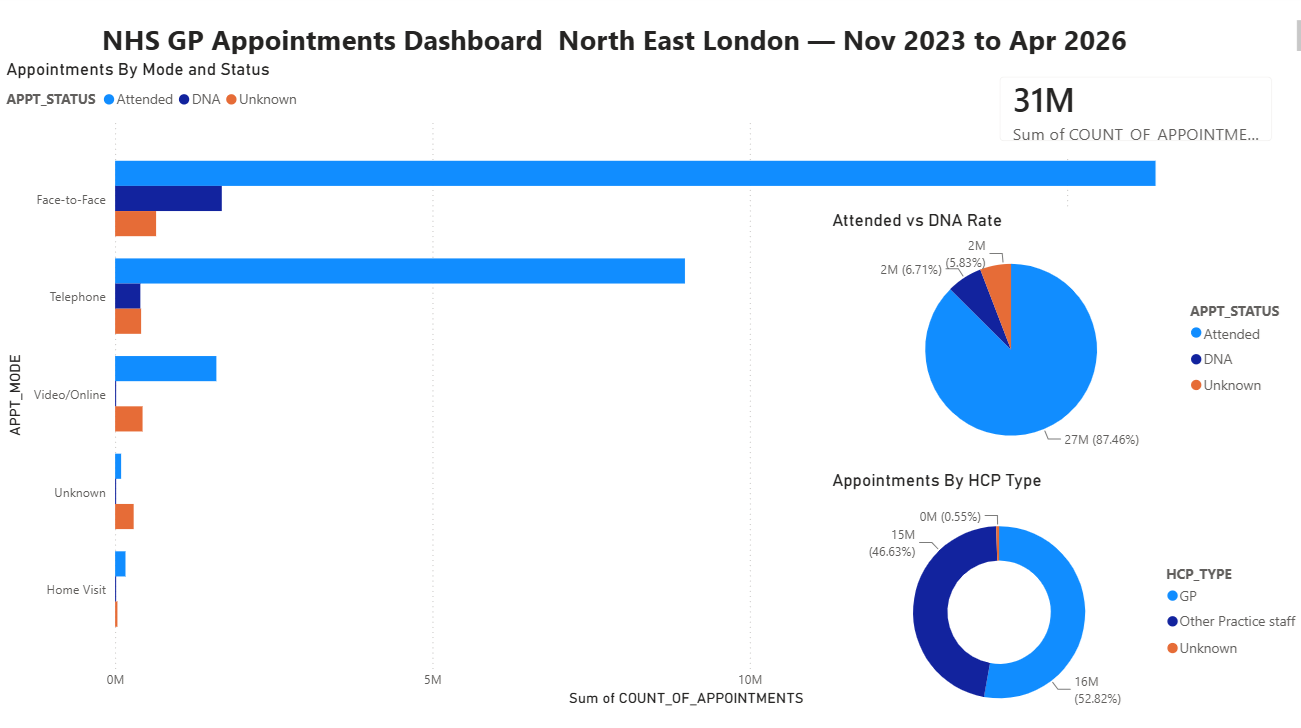

The page's visual inventory and layout, read from the dashboard file:
{"tool":"powerbi","page":{"name":"Page 1","canvas":[1280,720],"ordinal":0},"visuals":[{"type":"clusteredBarChart","title":"Appointments By Mode and Status","fields":{"Category":["Regional_CSV_NELondon.APPT_MODE"],"Y":["Sum(Regional_CSV_NELondon.COUNT_OF_APPOINTMENTS)"],"Series":["Regional_CSV_NELondon.APPT_STATUS"]},"box":[6.8,62.2,1239.1,635.1],"z":0},{"type":"pieChart","title":"Attended vs DNA Rate","fields":{"Category":["Regional_CSV_NELondon.APPT_STATUS"],"Y":["Sum(Regional_CSV_NELondon.COUNT_OF_APPOINTMENTS)"]},"box":[810.2,209.1,461,252.9],"z":1000},{"type":"donutChart","title":"Appointments By HCP Type","fields":{"Category":["Regional_CSV_NELondon.HCP_TYPE"],"Y":["Sum(Regional_CSV_NELondon.COUNT_OF_APPOINTMENTS)"]},"box":[810.2,462,469.8,257.8],"z":2000},{"type":"cardVisual","fields":{"Data":["Sum(Regional_CSV_NELondon.COUNT_OF_APPOINTMENTS)"]},"box":[961,62.2,299.6,97.3],"z":2001},{"type":"textbox","box":[100.2,19.5,1179.8,42.8],"z":2002}]}

Visuals, with their boxes in screenshot pixels (x1, y1, x2, y2), scaled from the page's 1280x720 canvas onto the 1301x728 screenshot:
"Appointments By Mode and Status" clusteredBarChart: region(7, 63, 1266, 705)
"Attended vs DNA Rate" pieChart: region(823, 211, 1292, 467)
"Appointments By HCP Type" donutChart: region(823, 467, 1300, 727)
cardVisual - Sum(Regional_CSV_NELondon.COUNT_OF_APPOINTMENTS): region(977, 63, 1281, 161)
textbox: region(102, 20, 1300, 63)
